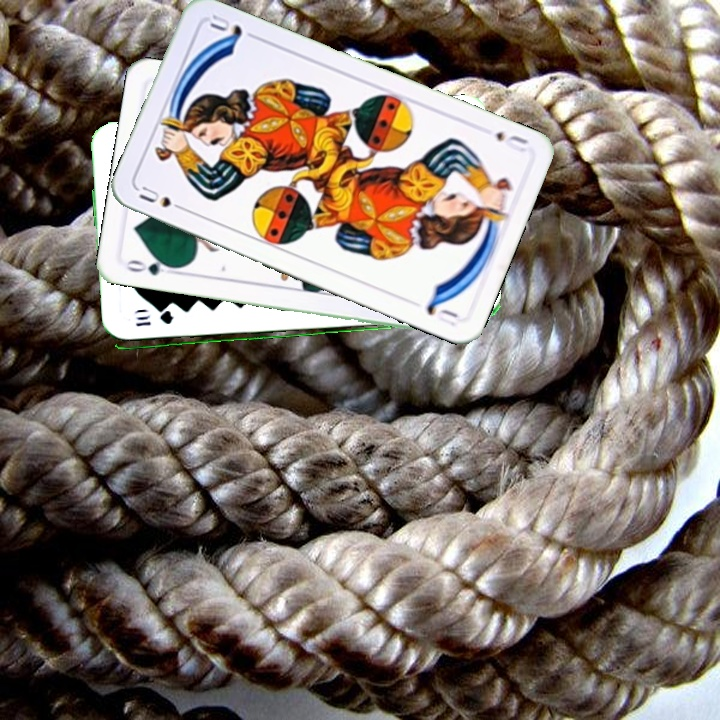G10: (132, 310, 176, 329)
GO: (122, 254, 180, 278)
SU: (135, 182, 191, 214), (492, 127, 530, 152)
